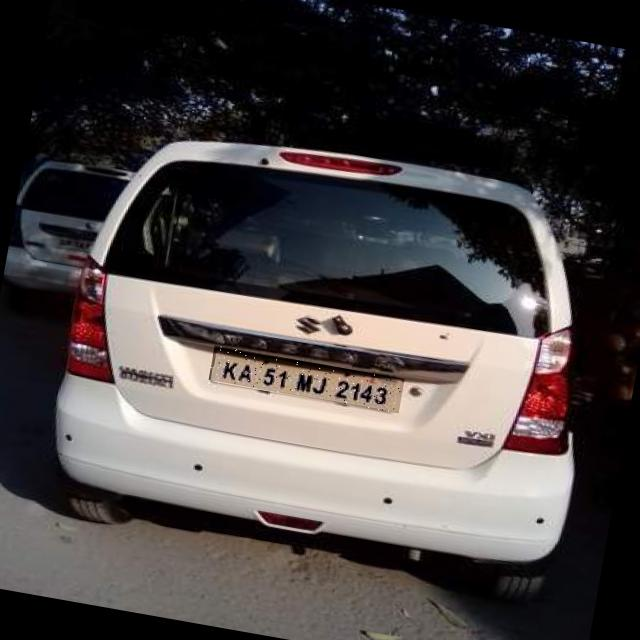Plate: (209, 346, 405, 414)
